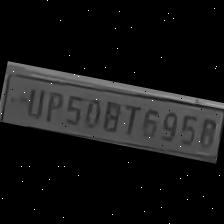0: (80, 94, 106, 130)
5: (60, 90, 86, 126), (175, 109, 200, 146)
6: (136, 102, 162, 140)
8: (194, 112, 218, 148)
9: (156, 106, 182, 142)
B: (98, 96, 125, 134)
P: (41, 86, 66, 124)
T: (118, 98, 143, 136)
U: (19, 82, 46, 119)
